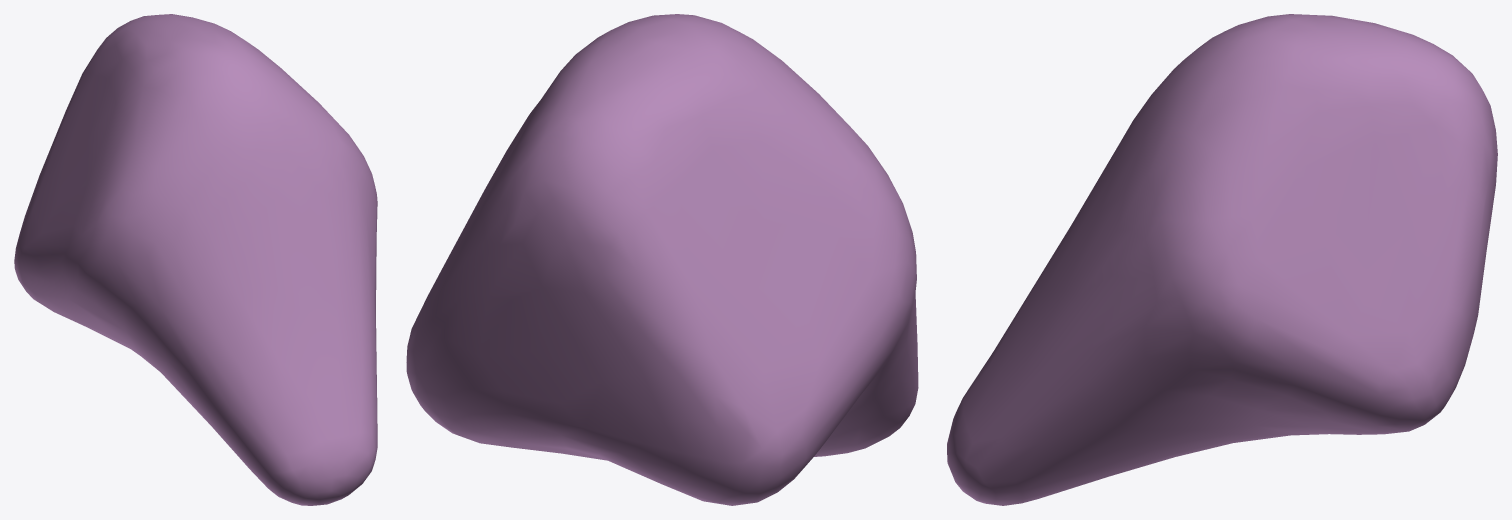
The picture shows the model from 3 angles, left to right: view 1: azimuth 30°, elevation 25°; view 2: azimuth 150°, elevation 25°; view 3: azimuth 270°, elevation 25°; orthographic projection. The views are drawn at different scales.
Parts seen in each view (by area): view 1: 蚓锥体; view 2: 蚓锥体; view 3: 蚓锥体.
Boxes of the visible parts, x1,y1,x2,y2 form: 蚓锥体: (14, 14, 377, 505); 蚓锥体: (406, 14, 918, 505); 蚓锥体: (947, 14, 1497, 505).
Bounding box in the file's own units: 0.0186 × 0.0231 × 0.0244.
